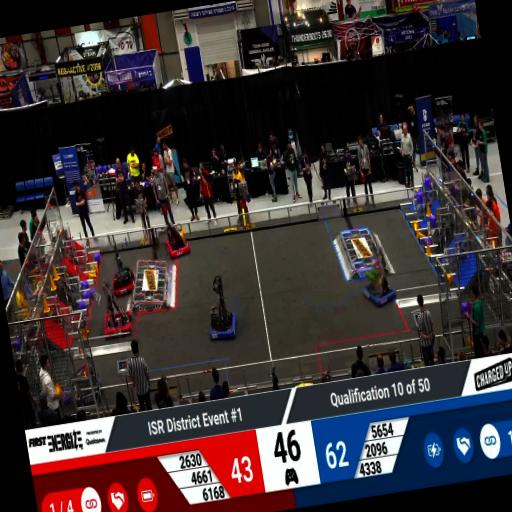robot: (66, 356, 104, 410), (203, 290, 241, 344), (359, 266, 398, 310), (98, 300, 134, 340), (107, 254, 136, 296), (160, 224, 192, 262)
